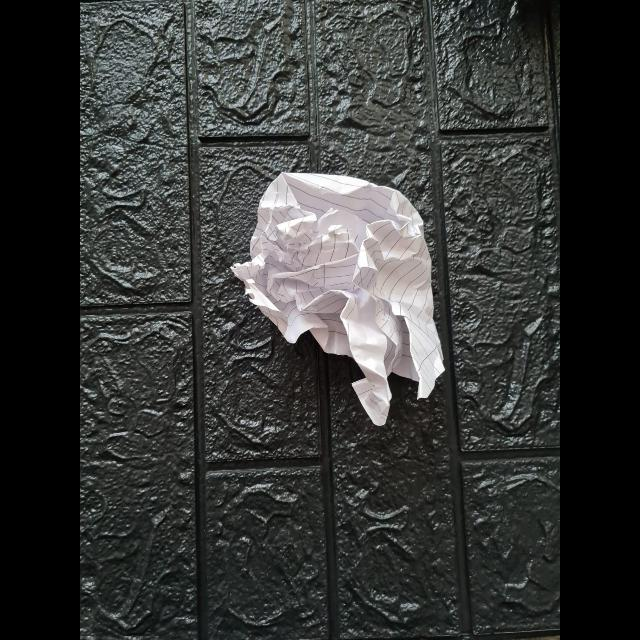scrap_paper: (214, 166, 454, 400)
